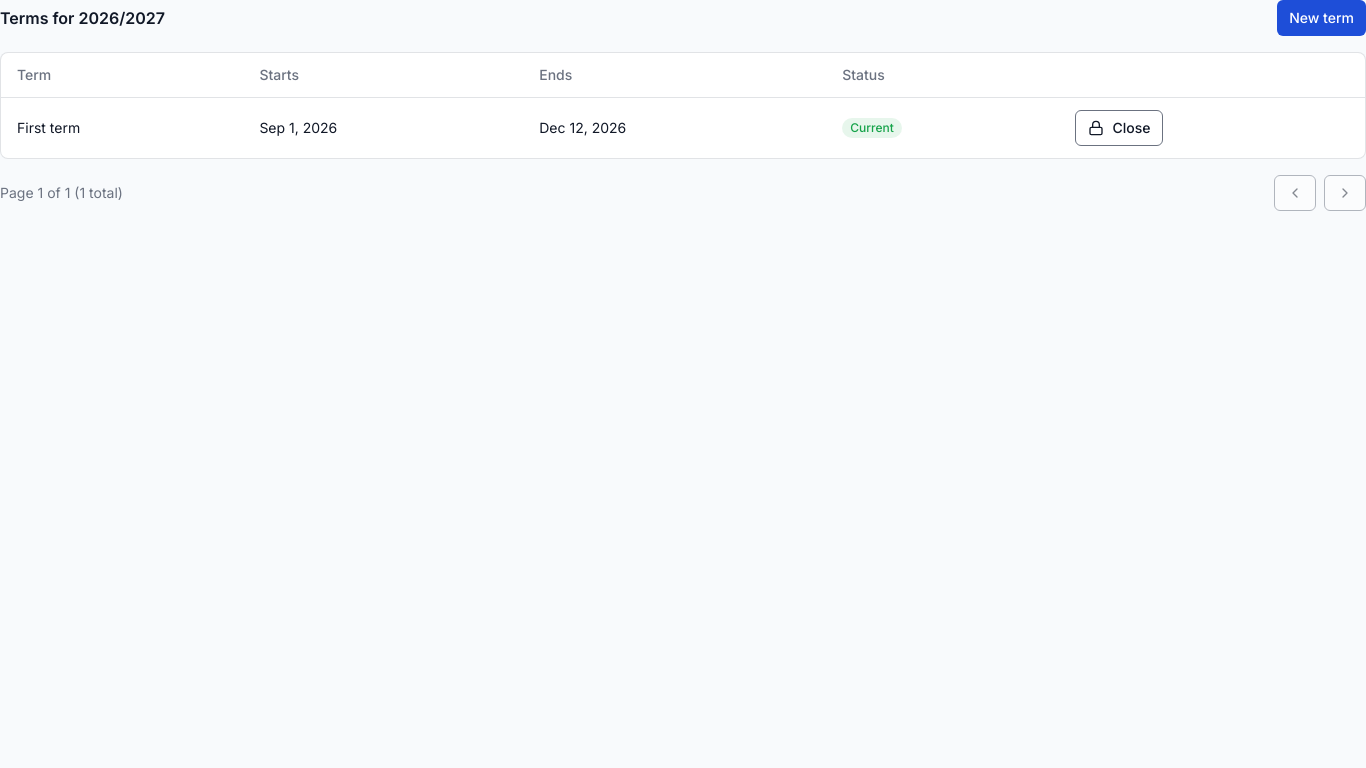
it: TermsSection — close term › closes a term, showing the warn-but-allow unpublished summary from the response (not a separate preview)
The image size is (1366, 768).
Expected: the text "First term" is shown, [17,119,80,136]
What coordinates should you click on to do the following:
click the button "Close"
I would click on:
 (1119, 128)
Its box is [1075,110,1163,146].
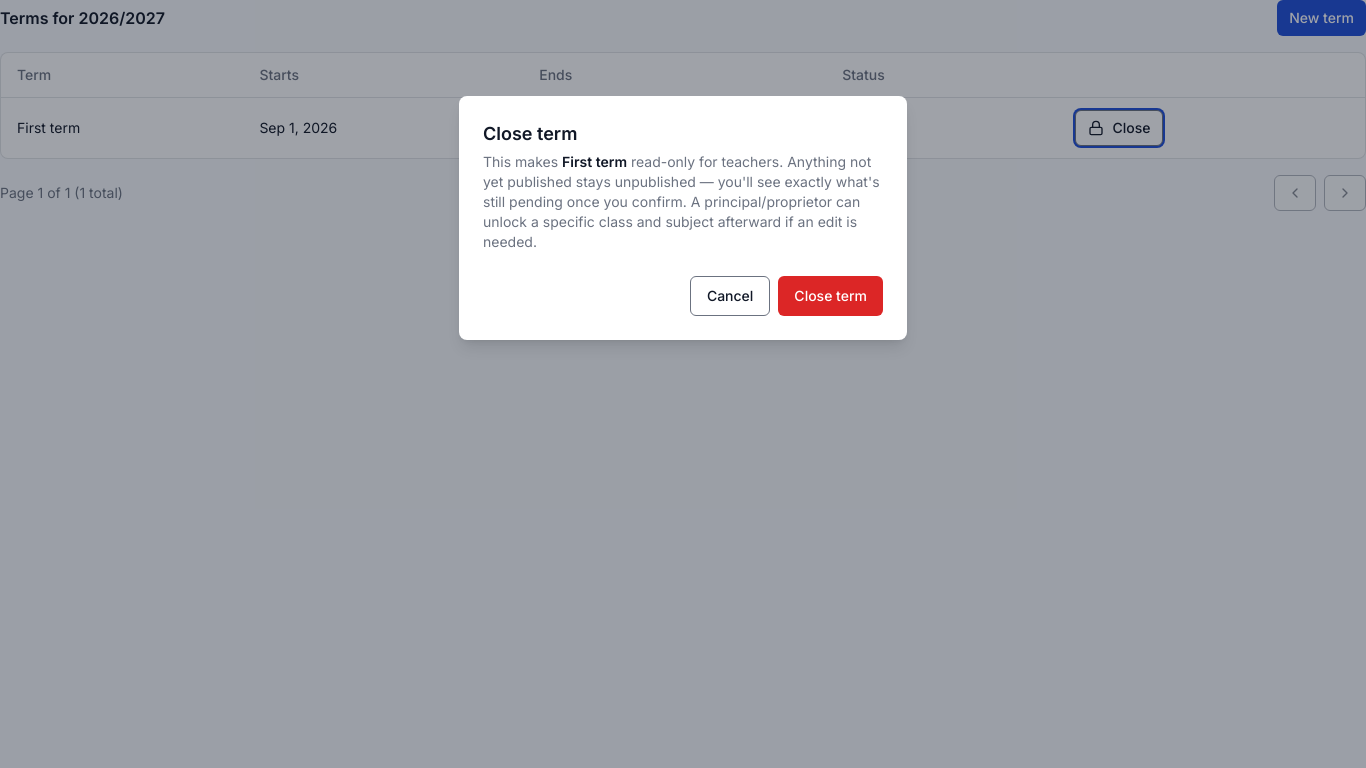
Result: the text "read-only for teachers" is shown at [483,153,880,250]
What coordinates should you click on to do the following:
click the button "Close term"
I would click on:
 (831, 296)
Its box is [778,276,883,316].
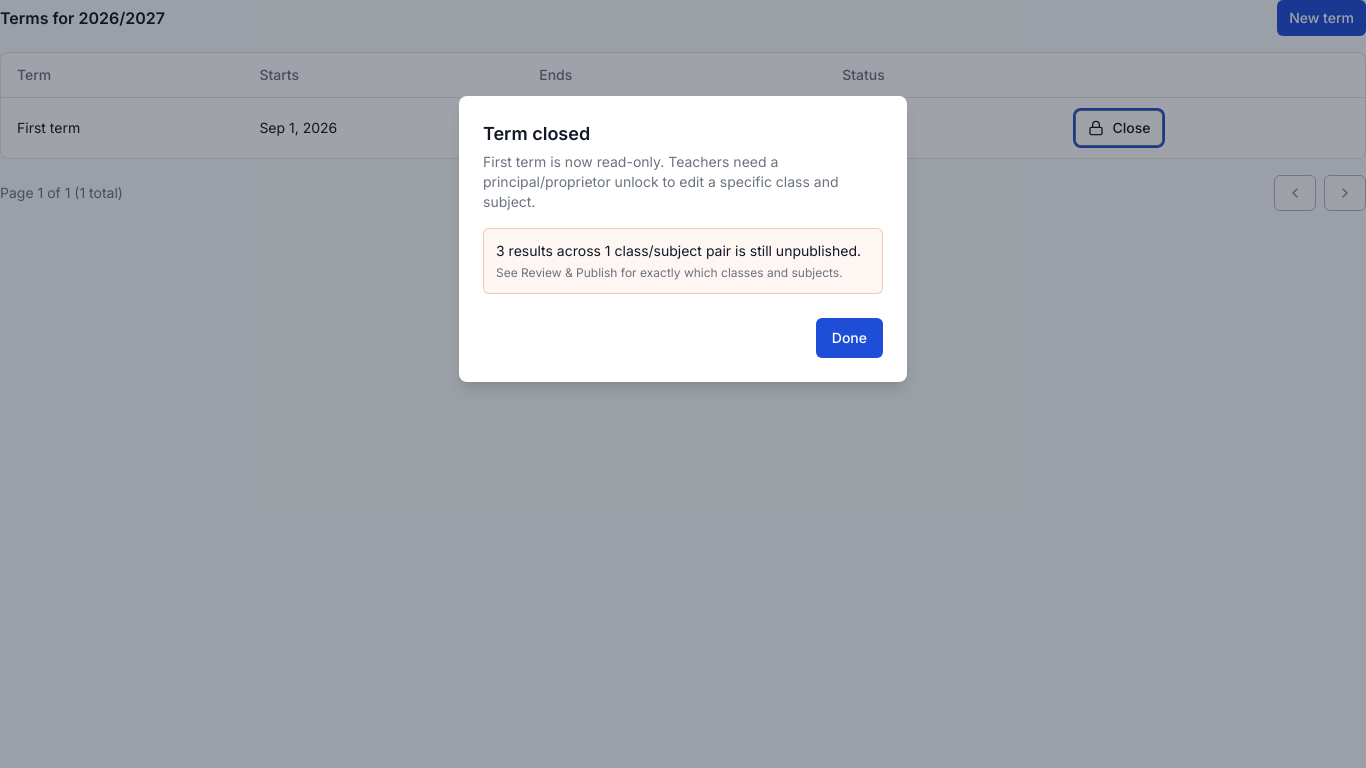
Result: the dialog "Term closed" is shown at [459,96,907,382]
Result: the text "3 results across 1 class/subject pair is still unpublished." is shown at [496,241,870,261]
What coordinates should you click on to do the following:
click the button "Done"
I would click on:
 (849, 338)
Its box is [816,318,883,358].
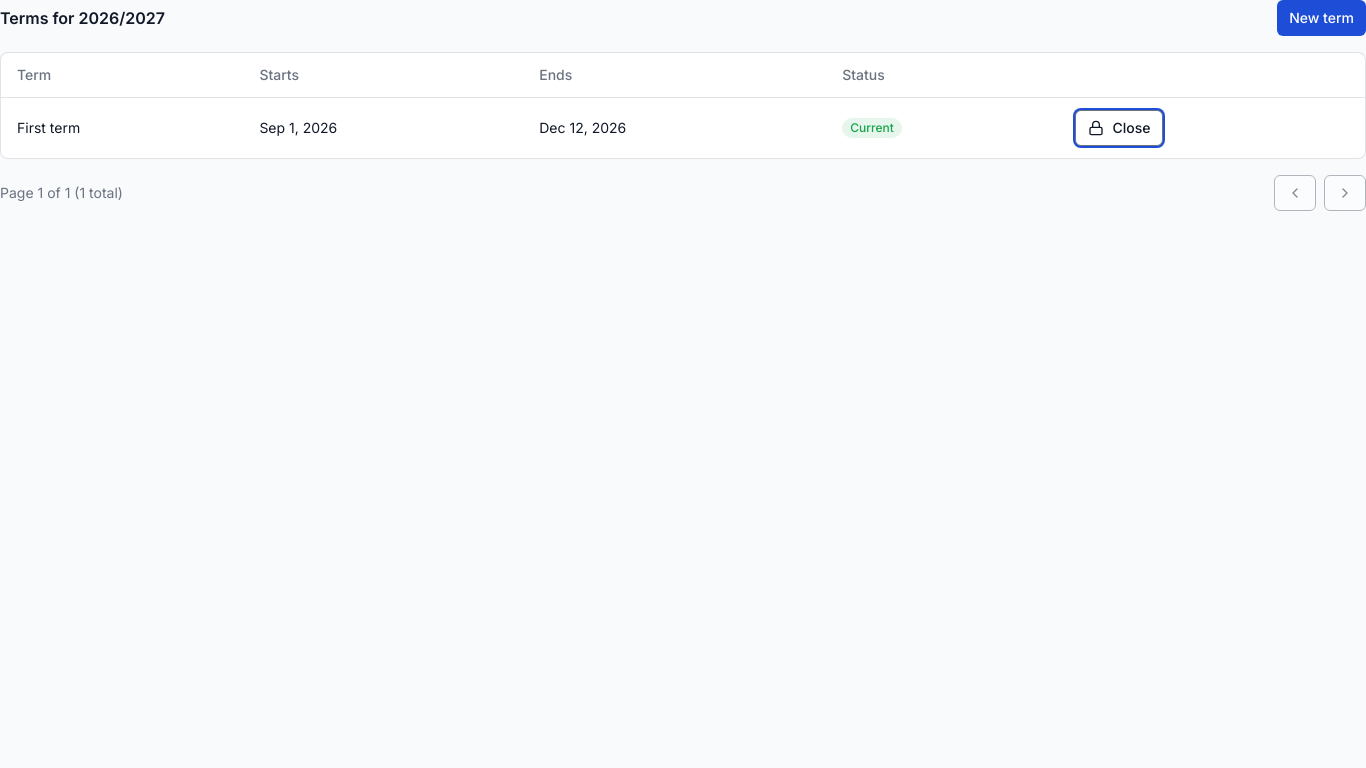
Result: the dialog is gone
